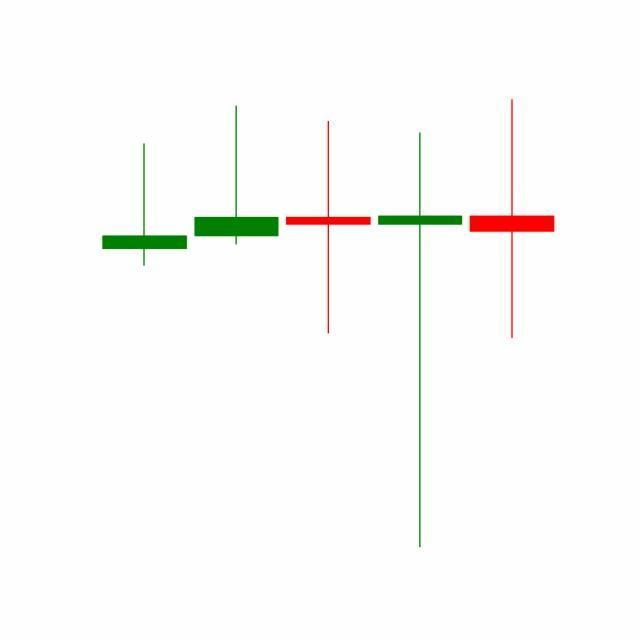Spinning Top: (374, 128, 468, 552)
